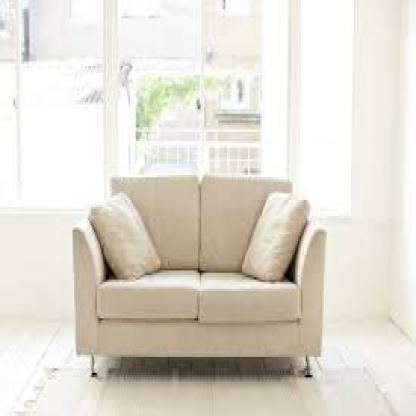sofa: (74, 180, 330, 378)
